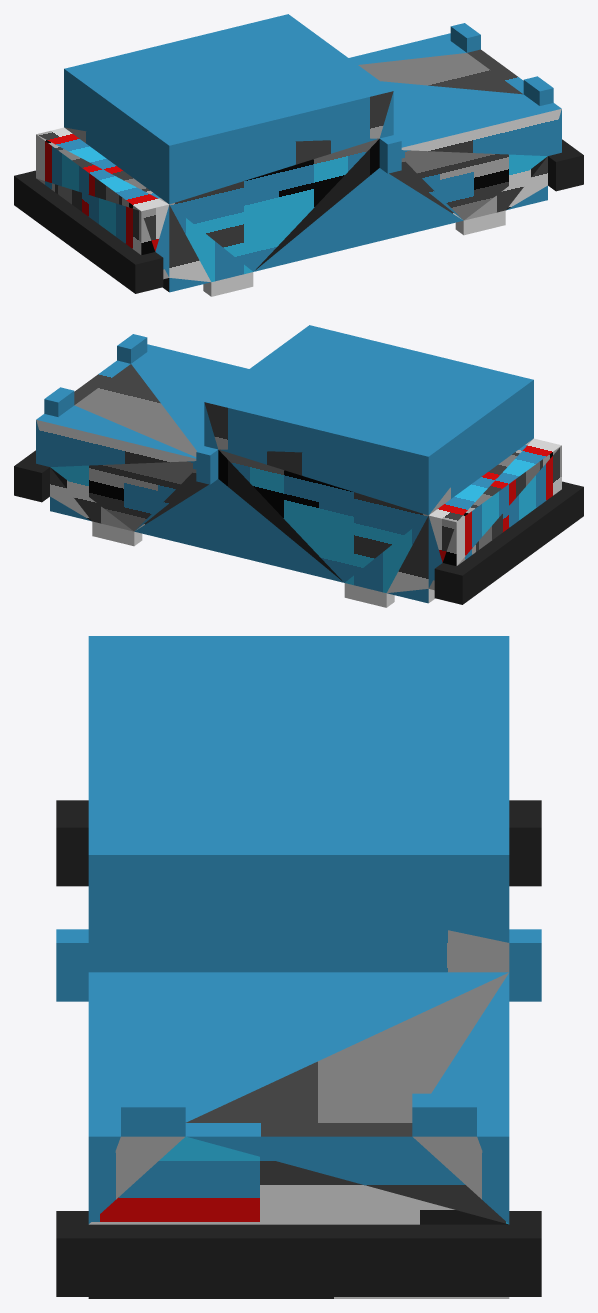
Rendered from veh_wagon1.dae.
3 renders of one model, top to bottom at view 1: azimuth 30°, elevation 25°; view 2: azimuth 150°, elevation 25°; view 3: azimuth 270°, elevation 25°, orthographic. The views are drawn at different scales.
Parts seen in each view (by area): view 1: veh_wagon1; view 2: veh_wagon1; view 3: veh_wagon1.
Part boxes in pixels (x1=…): veh_wagon1: x1=14, y1=14, x2=583, y2=296; veh_wagon1: x1=14, y1=325, x2=583, y2=607; veh_wagon1: x1=56, y1=636, x2=541, y2=1298.
Size of the model in its own units: 3.2 by 1.5 by 1.1.
